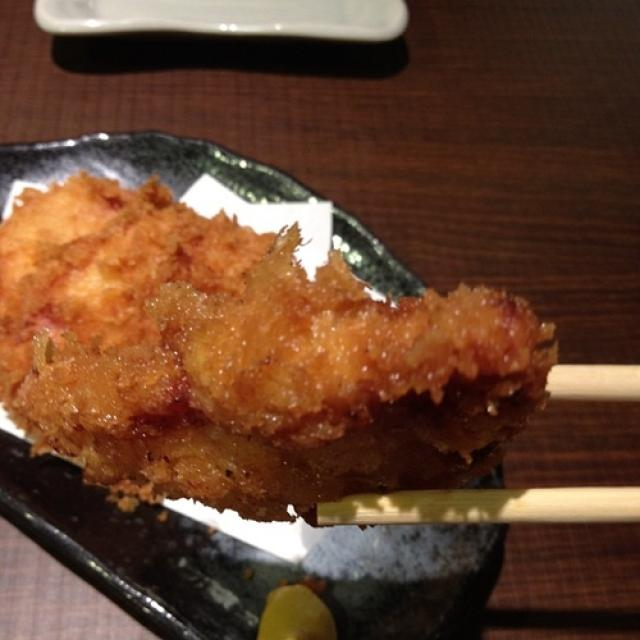炸货点心: (5, 87, 562, 626)
